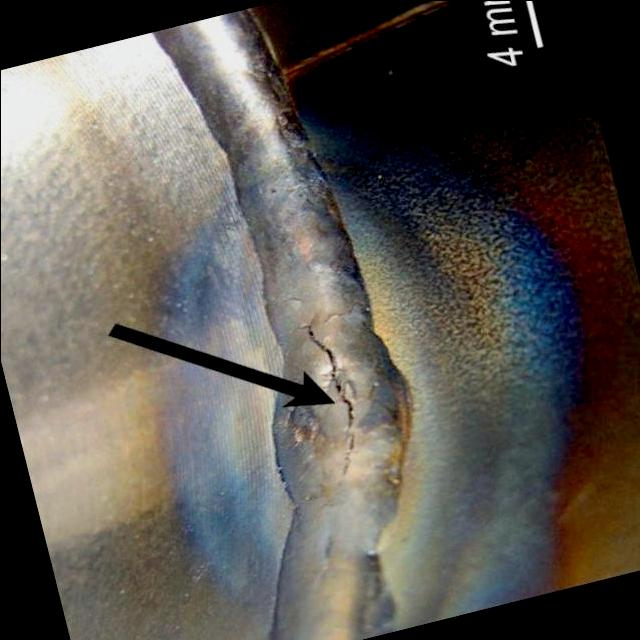defect: (286, 319, 360, 479)
